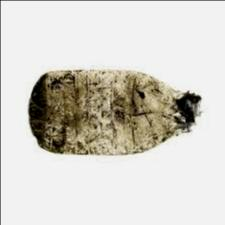bottle: (22, 60, 208, 160)
